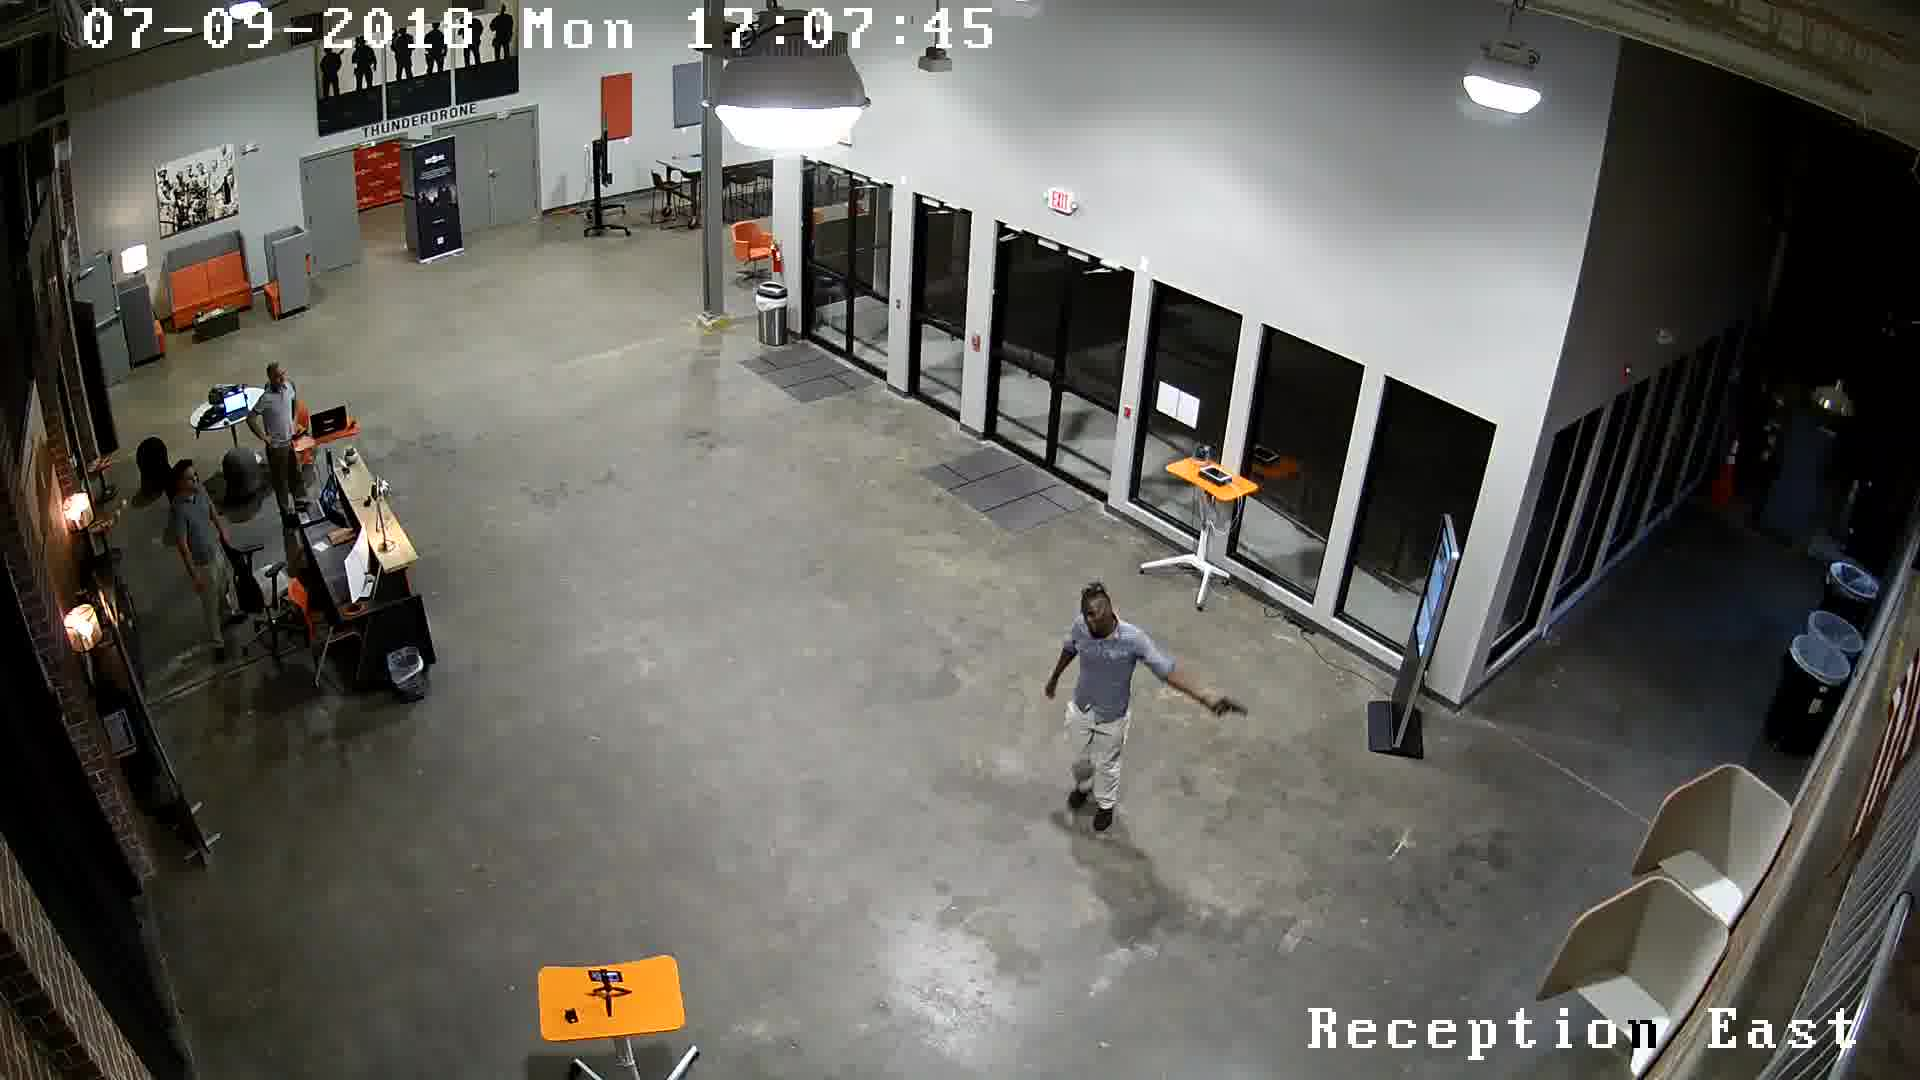pistol: (1197, 673, 1273, 742)
